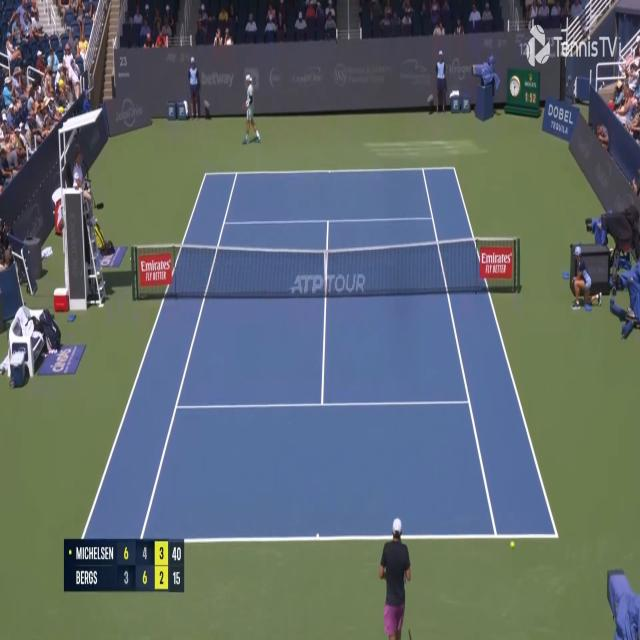tennis-player: (377, 515, 413, 640), (242, 72, 262, 147)
